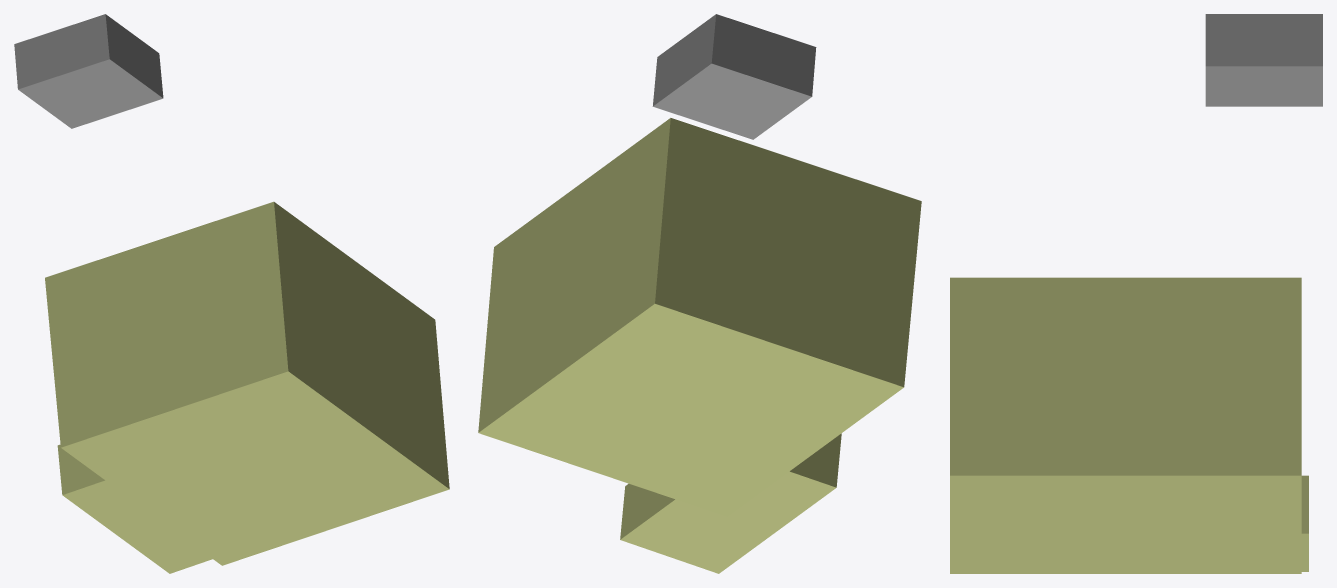
The picture shows the model from 3 angles, left to right: view 1: azimuth 30°, elevation 25°; view 2: azimuth 150°, elevation 25°; view 3: azimuth 270°, elevation 25°; orthographic projection. The views are drawn at different scales.
Visible parts, largest first — view 1: 0_2_3_3_3_1_0_3_1_2_2; view 2: 0_2_3_3_3_1_0_3_1_2_2; view 3: 0_2_3_3_3_1_0_3_1_2_2.
Boxes of the visible parts, x1=… form: 0_2_3_3_3_1_0_3_1_2_2: x1=14, y1=14, x2=449, y2=573; 0_2_3_3_3_1_0_3_1_2_2: x1=478, y1=14, x2=921, y2=573; 0_2_3_3_3_1_0_3_1_2_2: x1=950, y1=14, x2=1322, y2=573.
Size of the model in its own units: 8.52 by 14.29 by 9.54.
